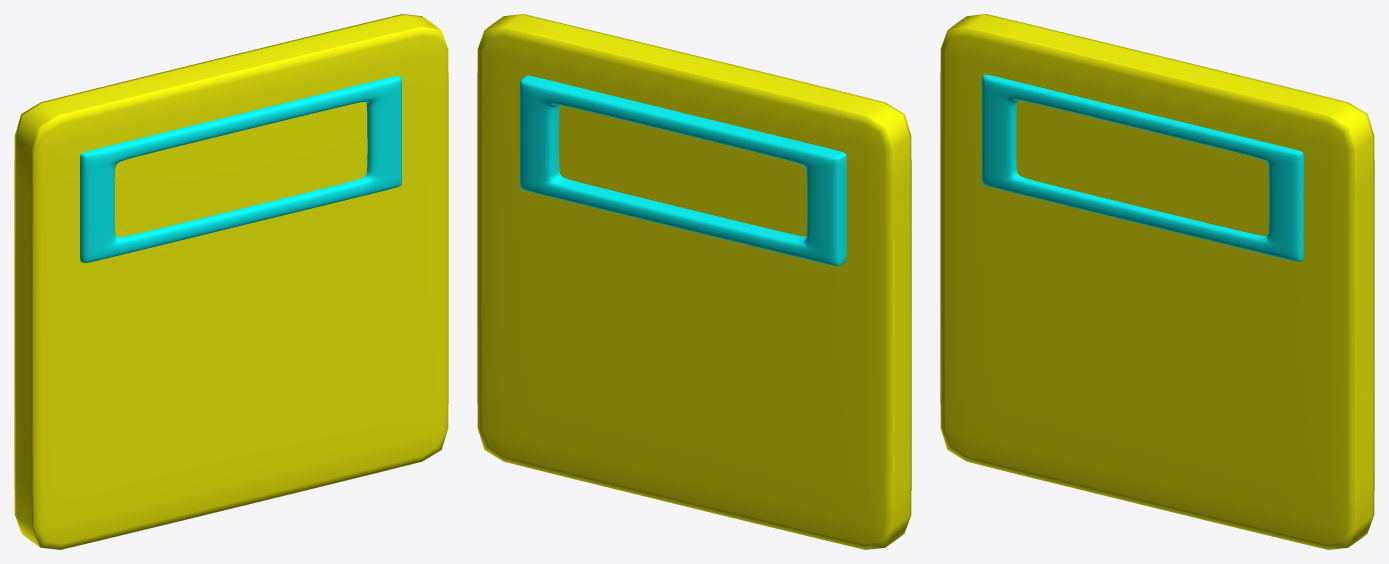
3 views of the same model, side by side, from view 1: azimuth 30°, elevation 25°; view 2: azimuth 150°, elevation 25°; view 3: azimuth 330°, elevation 25° (orthographic).
Parts seen in each view (by area): view 1: polySurface1002; view 2: polySurface1002; view 3: polySurface1002.
Part boxes in pixels (<box>): polySurface1002: <box>14,14,448,549</box>; polySurface1002: <box>477,14,911,549</box>; polySurface1002: <box>940,14,1374,549</box>.
Size of the model in its own units: 0.9994 by 0.9994 by 0.1498.
